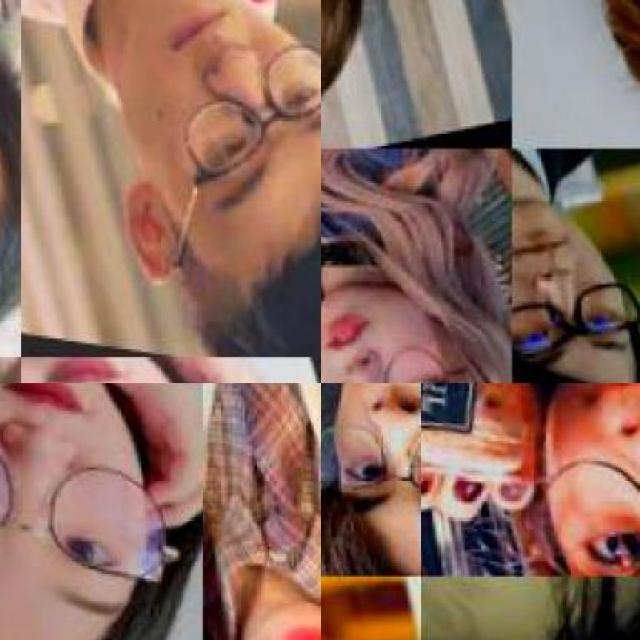glasses: (118, 42, 323, 274), (0, 450, 177, 596), (523, 459, 640, 580), (514, 264, 638, 374), (320, 429, 417, 513), (320, 336, 492, 382)
